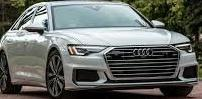Cars: (1, 4, 198, 98)
